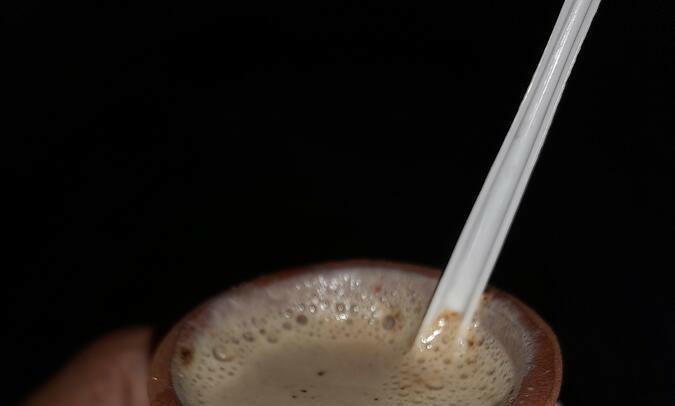Chai: (177, 277, 523, 406)
